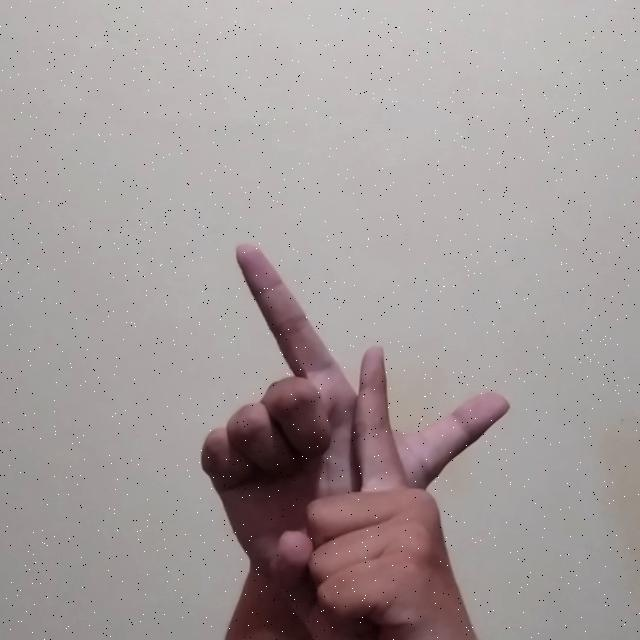Y: (190, 230, 520, 640)
